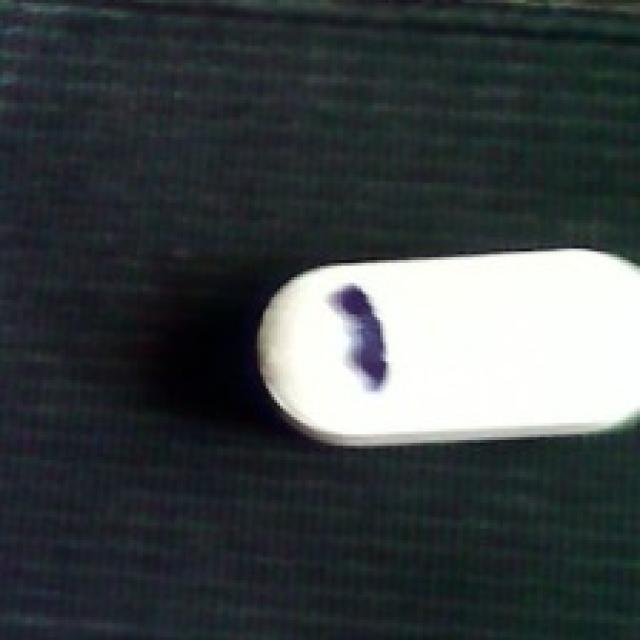defected: (249, 243, 637, 448)
